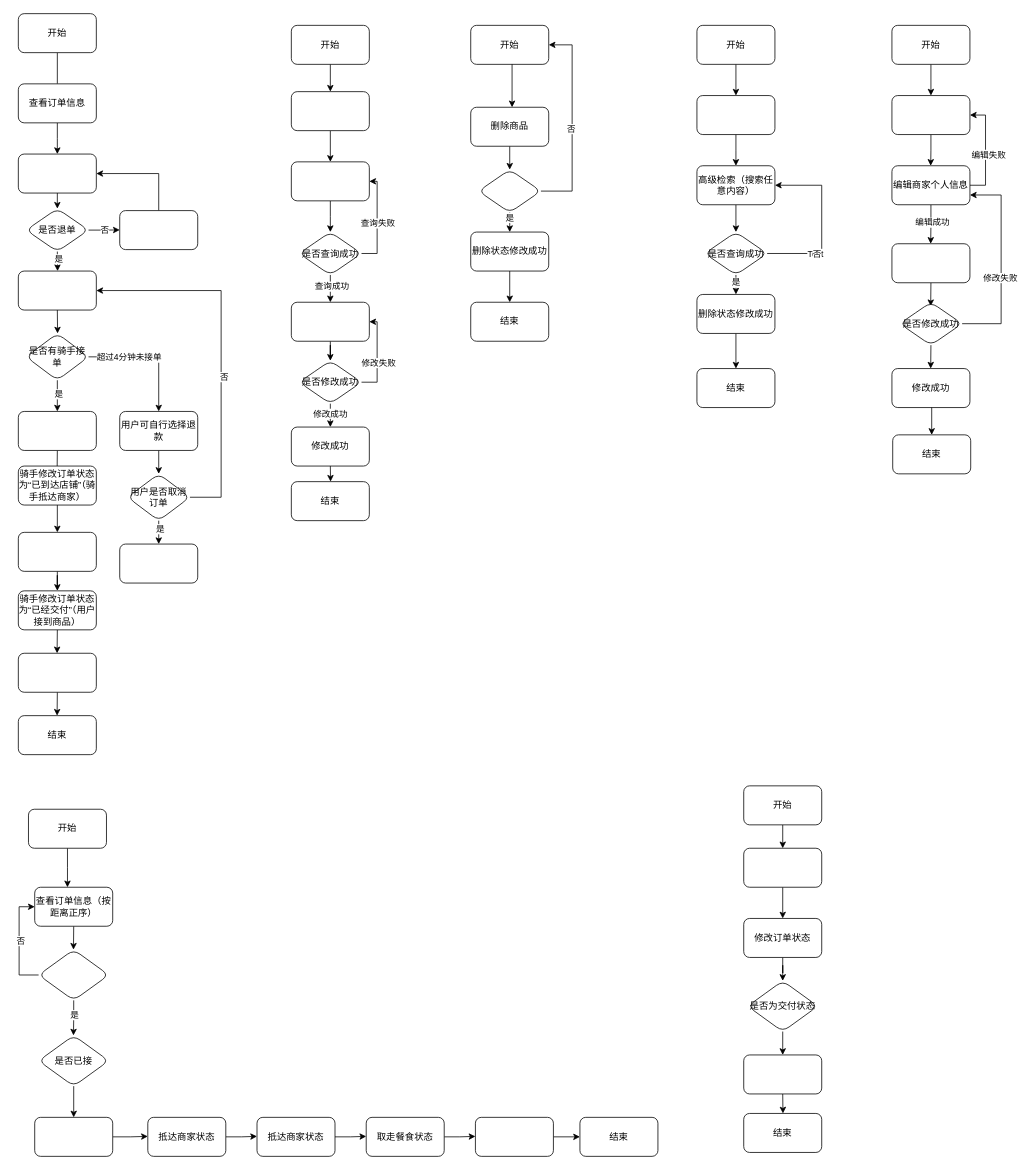
Image size: 1030x1170. Some labels were removed from this diagram. Each missing label, with the centre of its shape:
交付成功: point 782,1074
交付订单: point 514,1136
修改个人信息: point 930,263
修改商品信息: point 330,321
填写拒接原因: point 158,230
平台自动退款: point 158,563
是否删除成功: point 509,191
是否接单: point 73,974
条件查询商品: point 735,115
查看商品信息: point 330,111
查看商家个人信息: point 930,115
查看已接订单信息: point 782,867
用户评价订单: point 57,672
编辑商品信息: point 330,181
获取商品订单/用户信息: point 57,290
获取用户信息/商家信息: point 73,1136
获取骑手信息: point 57,430
选定单一订单: point 57,173
骑手修改订单状态为“已取餐食”（骑手出发）: point 57,551
